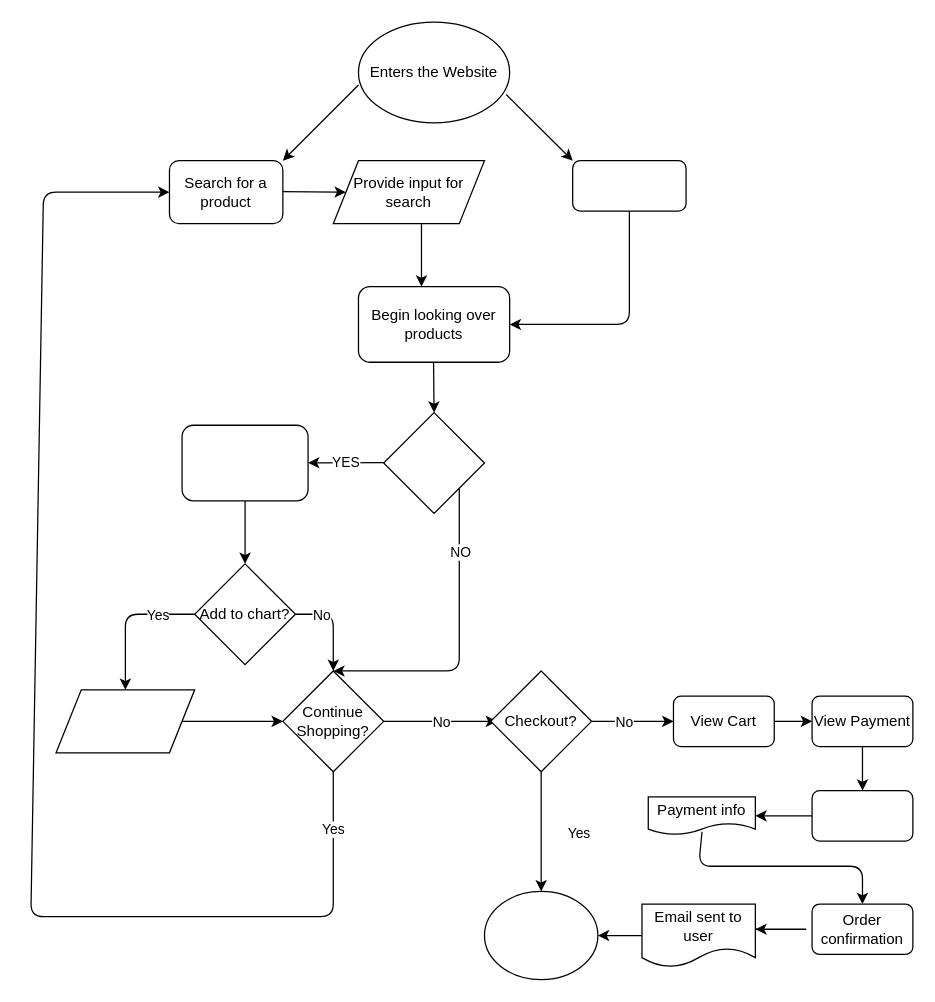
Some shapes in this 935 by 1002 pixel diagram are drawn without their labels. Each missing label, with the centre of its shape:
"Added to chart confirmation" goes at point (125, 721).
"Explore products on homepage" goes at point (628, 185).
"Input payment info" goes at point (862, 815).
"Leaves Website" goes at point (540, 935).
"Open product webpage" goes at point (244, 462).
"View a specific product?" goes at point (433, 462).
